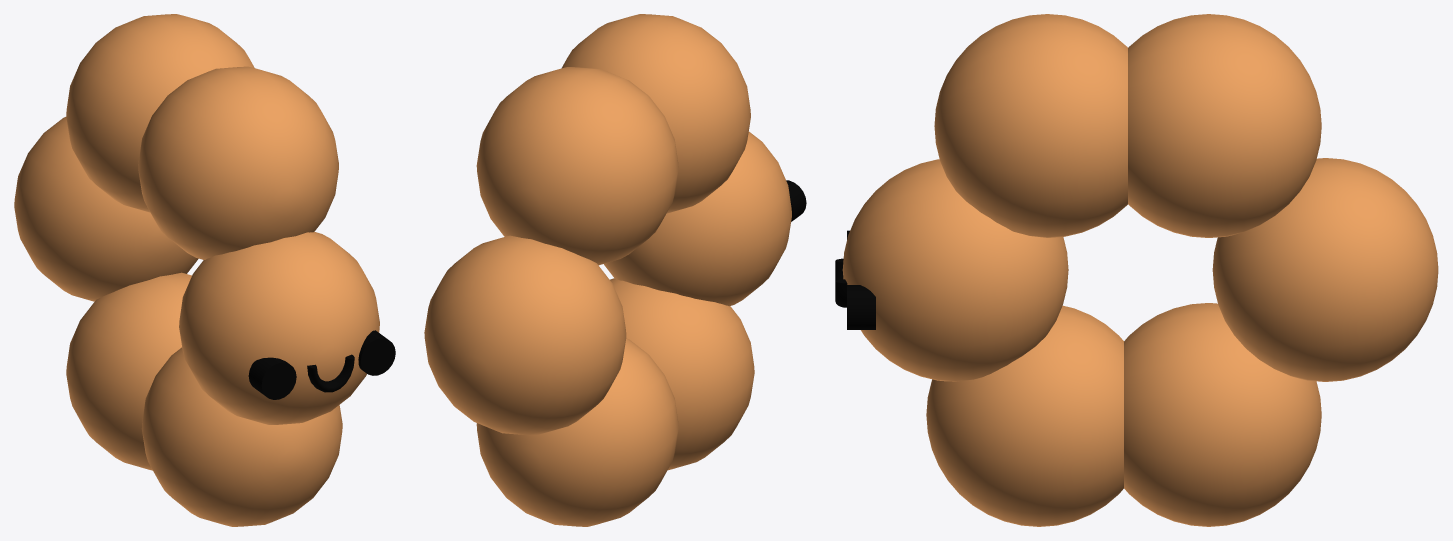
File: ORANGE.fbx
3 renders of one model, left to right at view 1: azimuth 30°, elevation 25°; view 2: azimuth 150°, elevation 25°; view 3: azimuth 270°, elevation 25°, orthographic. The views are drawn at different scales.
Visible parts, largest first — view 1: pSphere233; view 2: pSphere233; view 3: pSphere233.
Part boxes in pixels (x1,y1,x2,y2): pSphere233: (14,14,395,526); pSphere233: (424,14,806,526); pSphere233: (835,14,1438,526).
Bounding box in the file's own units: 3 × 7.23 × 8.01.
